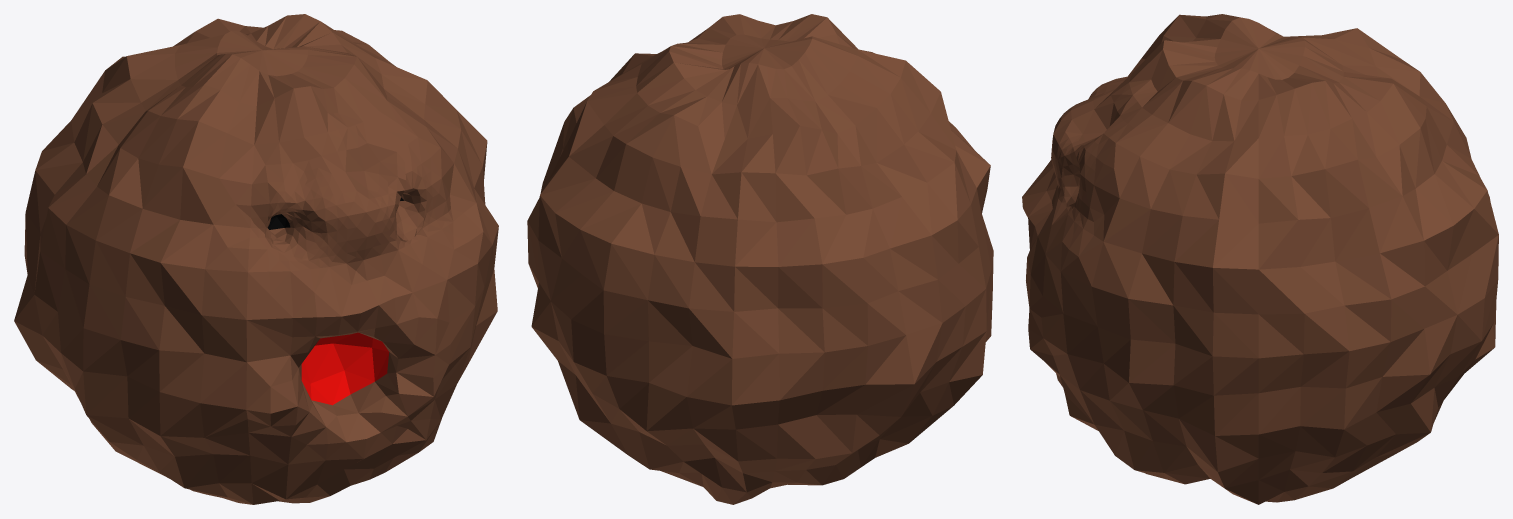
The model's file is Chained.fbx.
The picture shows the model from 3 angles, left to right: view 1: azimuth 30°, elevation 25°; view 2: azimuth 150°, elevation 25°; view 3: azimuth 270°, elevation 25°; orthographic projection.
Visible parts, largest first — view 1: Head; view 2: Head; view 3: Head.
Part boxes in pixels (x1,y1,x2,y2): Head: [14, 14, 498, 504]; Head: [527, 14, 993, 504]; Head: [1022, 14, 1498, 504].
Bounding box in the file's own units: 403 × 415 × 409.
